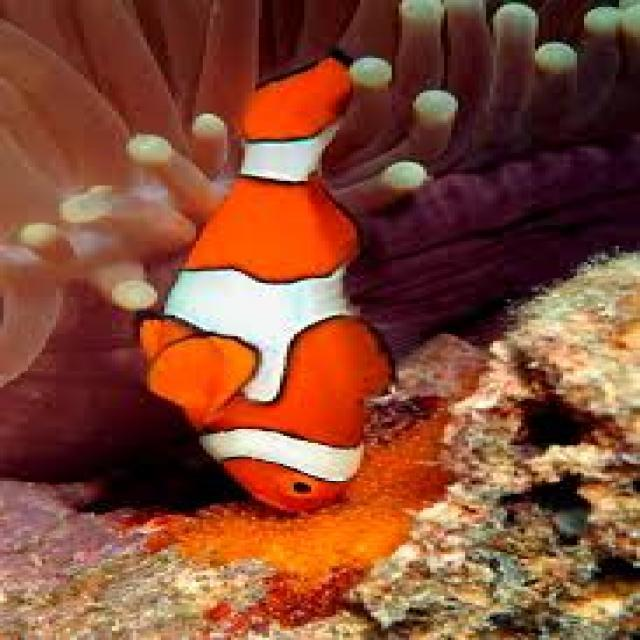ClownFish: (146, 54, 393, 510)
